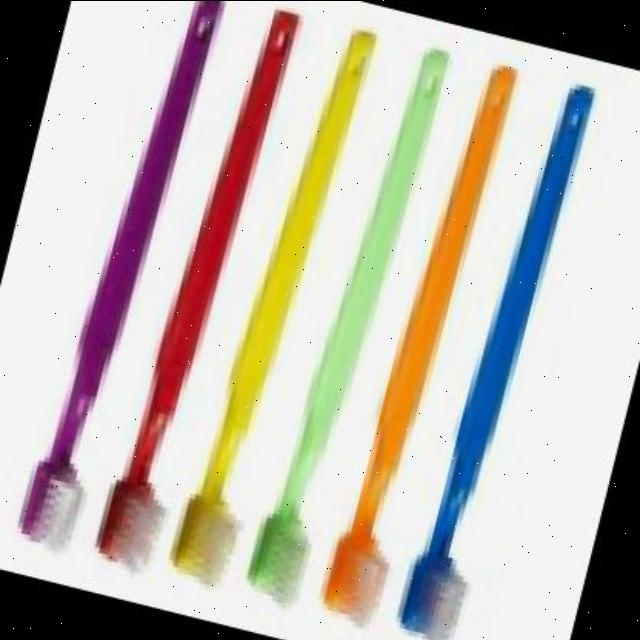toothbrush: (385, 50, 637, 640), (173, 12, 377, 600)
